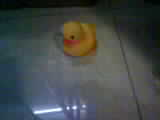duck: (53, 13, 103, 65)
